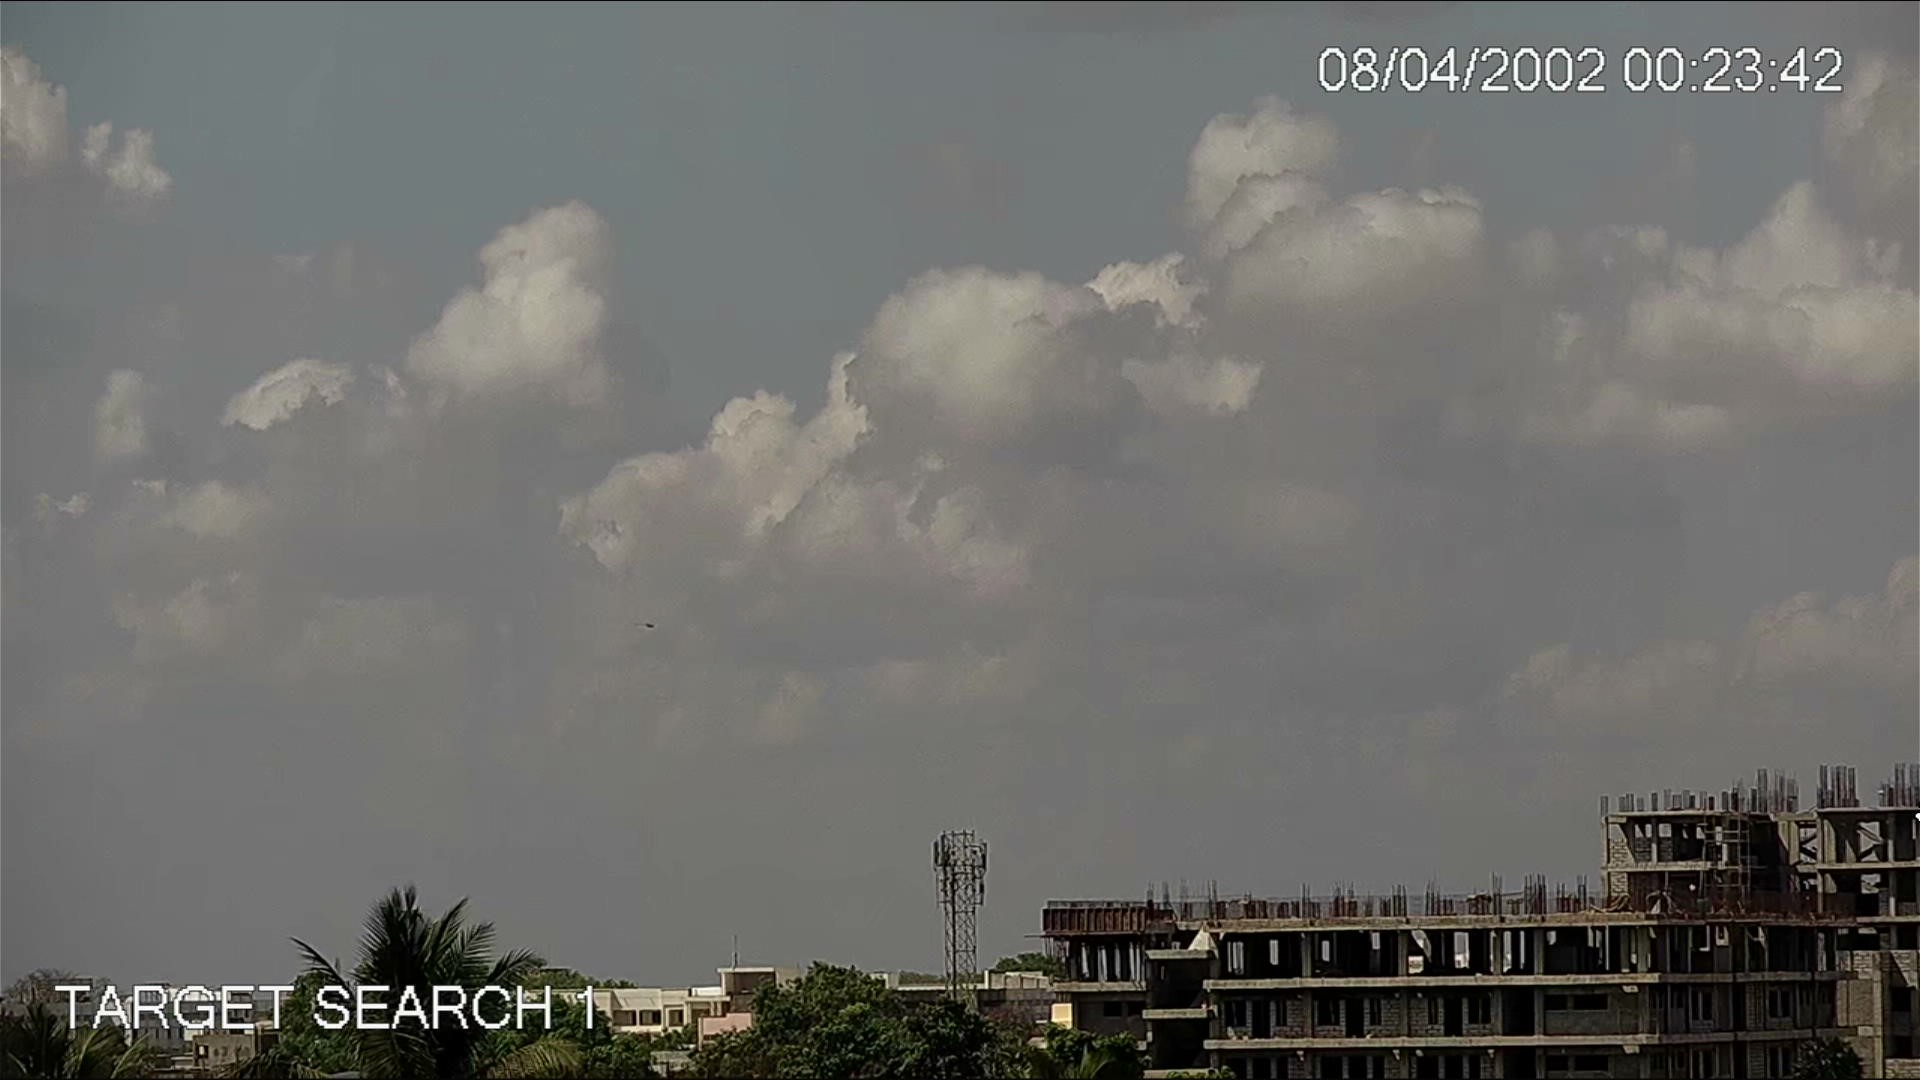SU_30: (630, 617, 657, 633)
